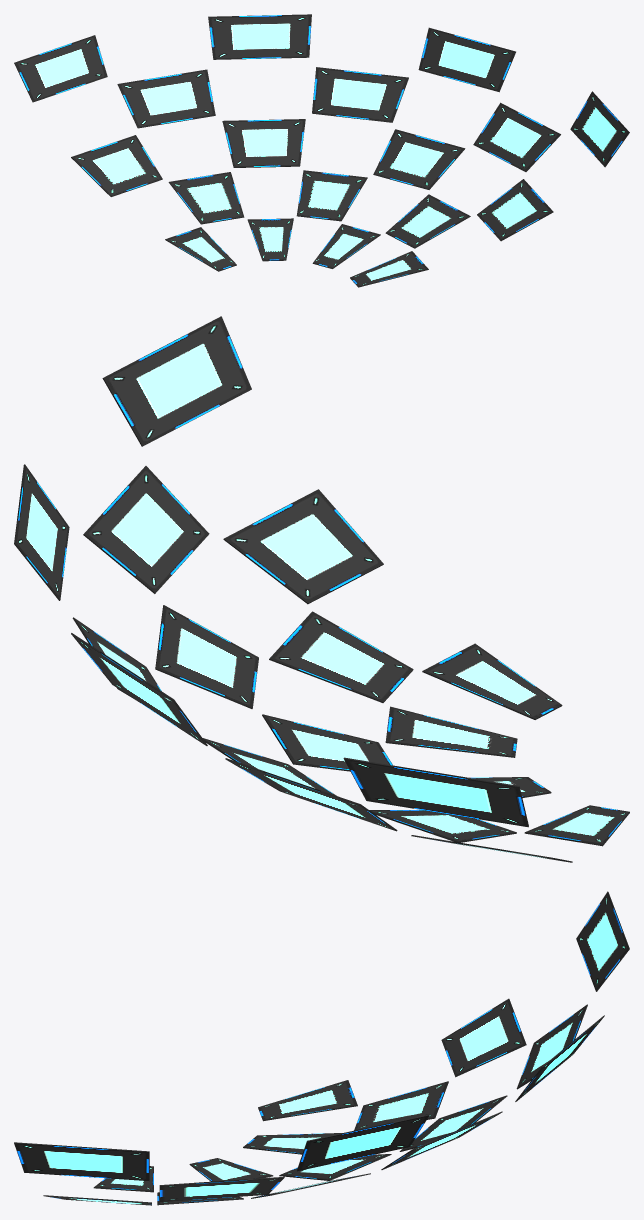
The model's file is 7_tiles_arena_part_2.fbx.
3 views of the same model, one above another, from view 1: azimuth 30°, elevation 25°; view 2: azimuth 150°, elevation 25°; view 3: azimuth 270°, elevation 25° (orthographic). The views are drawn at different scales.
Visible parts, largest first — view 1: polySurface15; view 2: polySurface15; view 3: polySurface15.
Boxes of the visible parts, left/top/right/bottom form: polySurface15: left=14, top=14, right=629, bottom=287; polySurface15: left=14, top=316, right=629, bottom=862; polySurface15: left=14, top=891, right=629, bottom=1205.
Size of the model in its own units: 2.74 by 0.8381 by 2.74.
